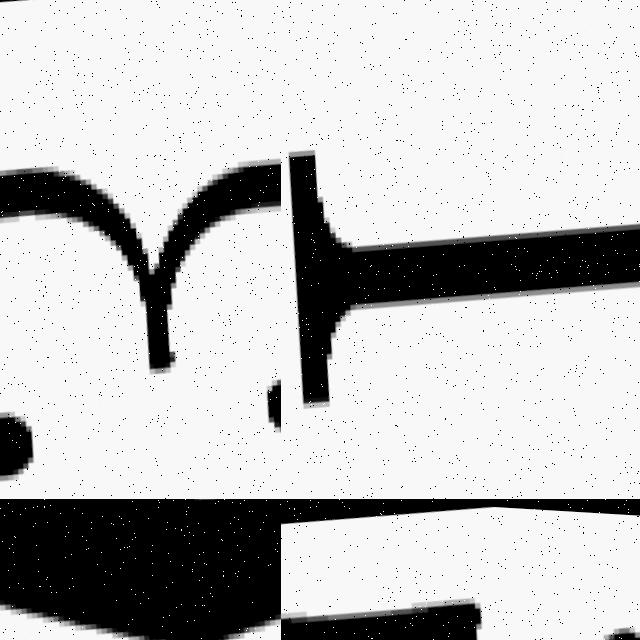1: (281, 77, 640, 446)
3: (0, 102, 281, 499)
G: (281, 535, 640, 640)
Y: (0, 499, 281, 640)
